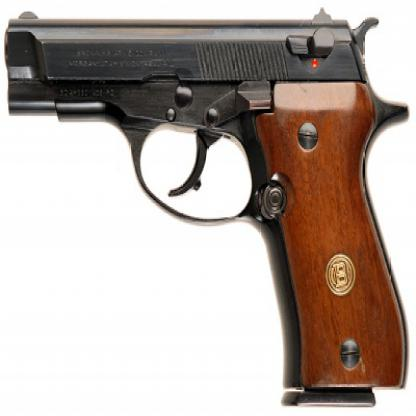Guns: (2, 3, 415, 414)
